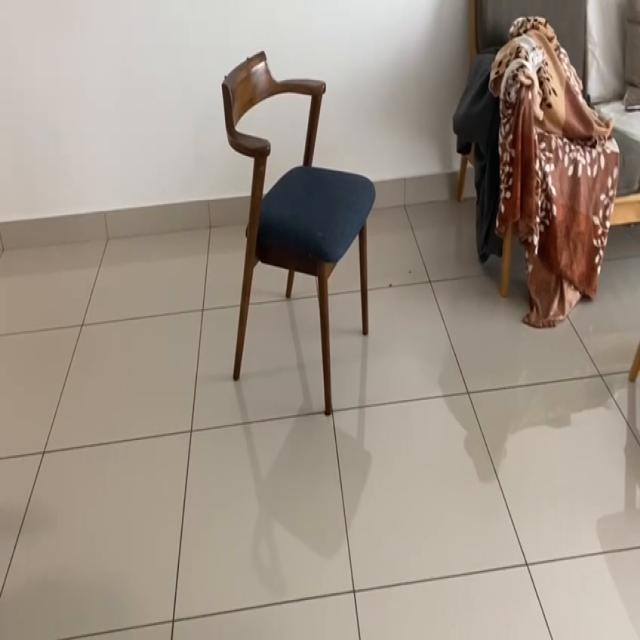Chair: (213, 45, 382, 421)
